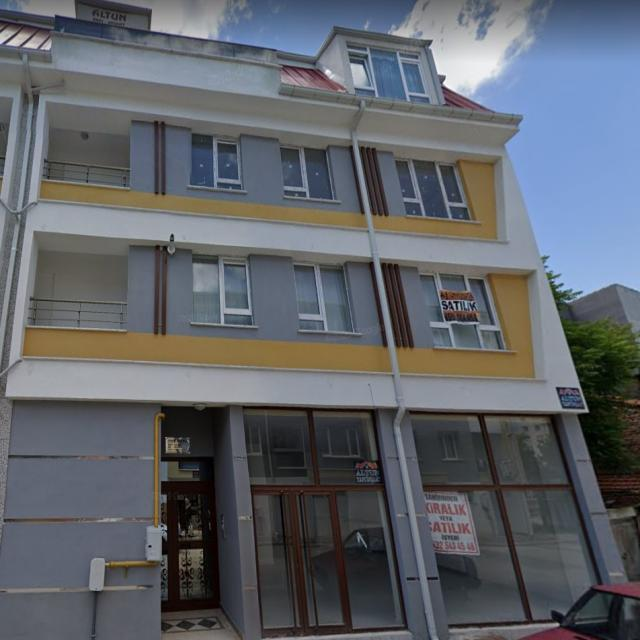Building: (0, 0, 629, 640)
